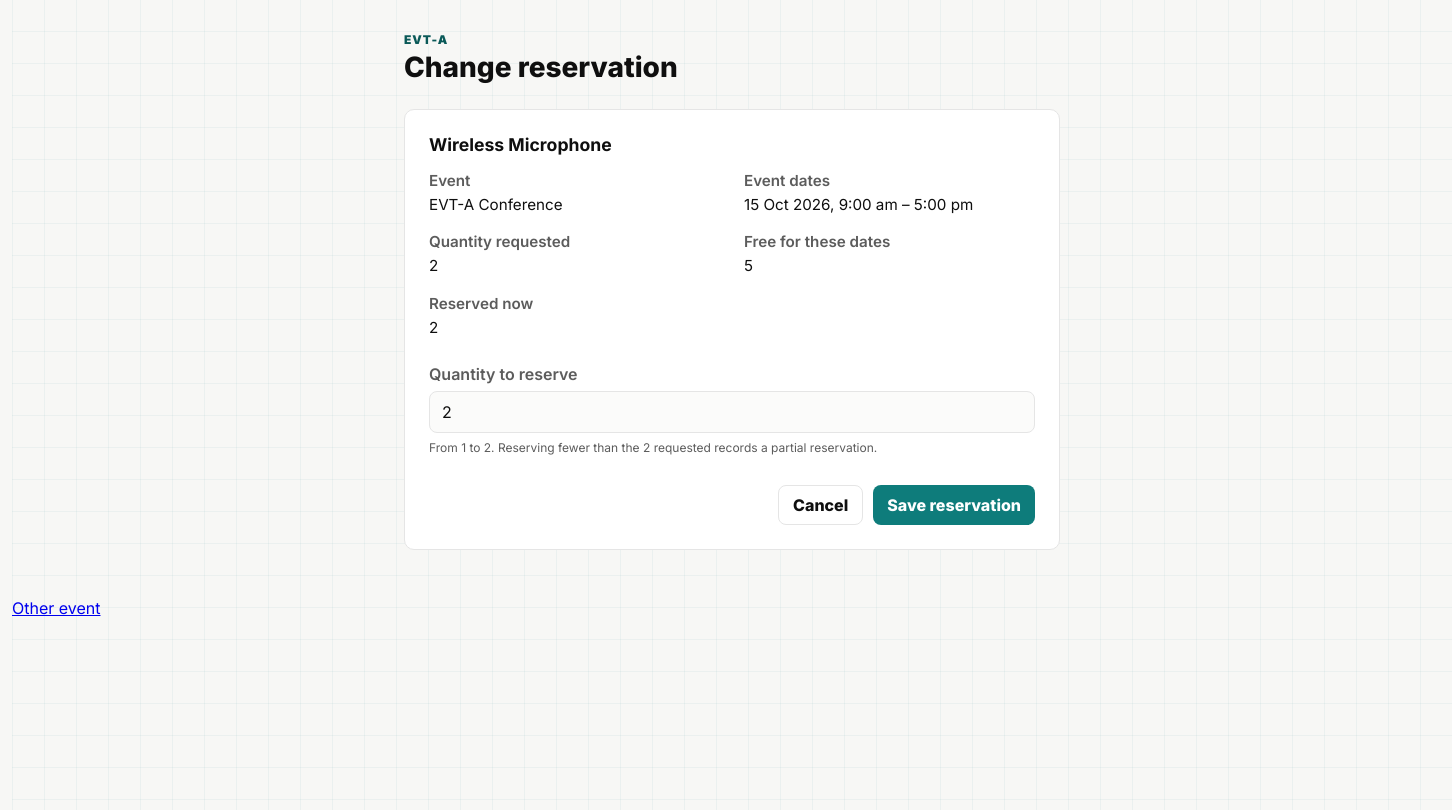
Scenario: E07-S04 - saving an unchanged reservation says there is nothing to save
Click the button "Save reservation": (954, 505) [873, 485, 1035, 525]
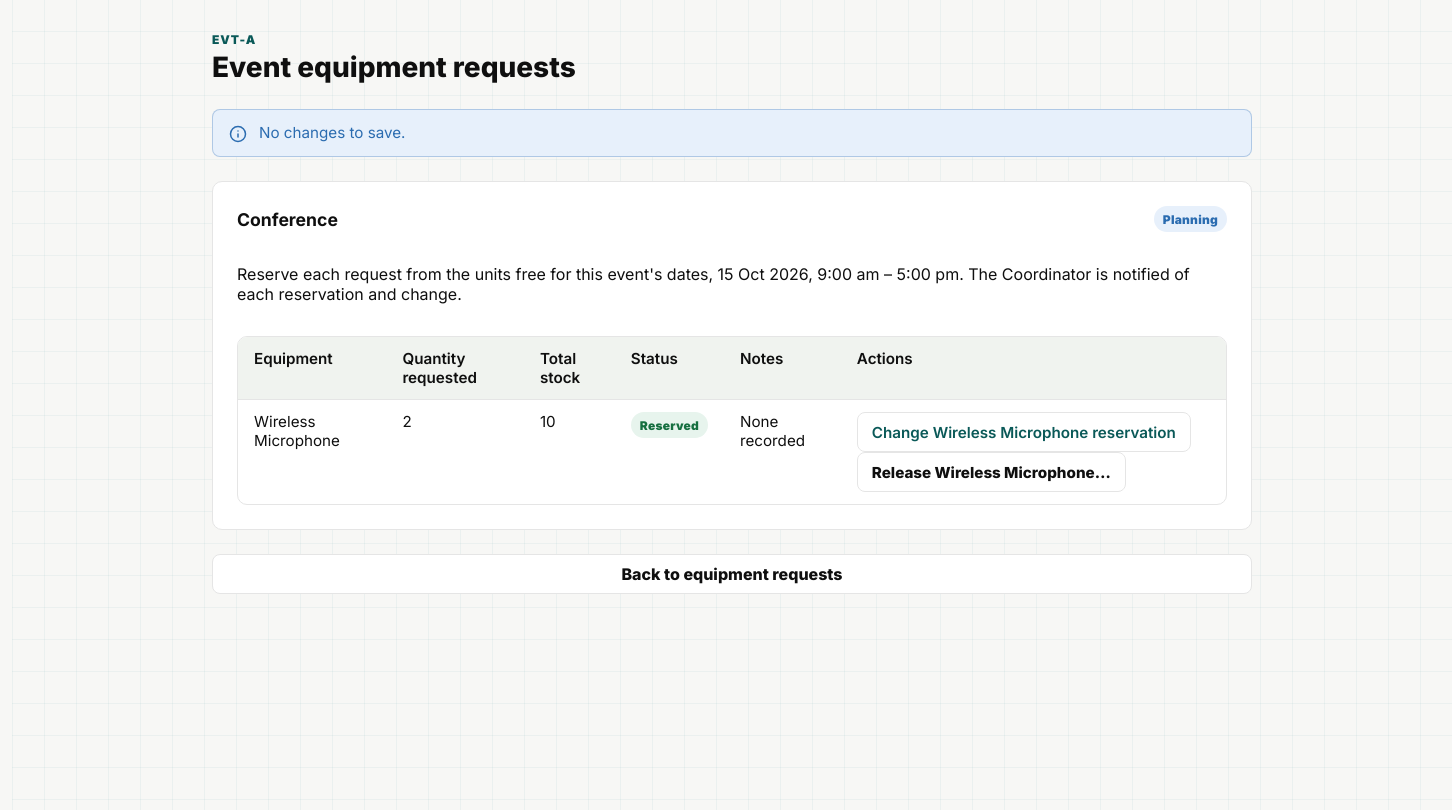
Check: the text "No changes to save." is shown, box [259, 123, 405, 142]
